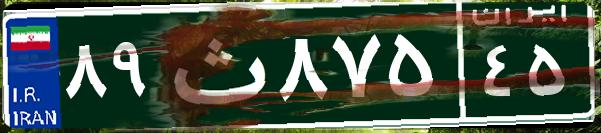4: (475, 38, 525, 113)
5: (385, 28, 445, 110), (525, 38, 570, 115)
7: (330, 28, 385, 110)
8: (273, 28, 330, 110), (57, 26, 110, 107)
9: (110, 28, 158, 105)
ث: (158, 15, 273, 115)
